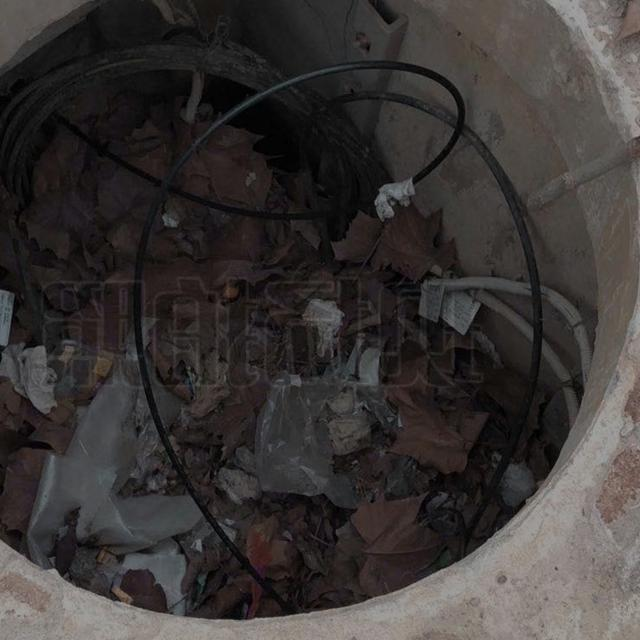lose: (0, 0, 640, 621)
